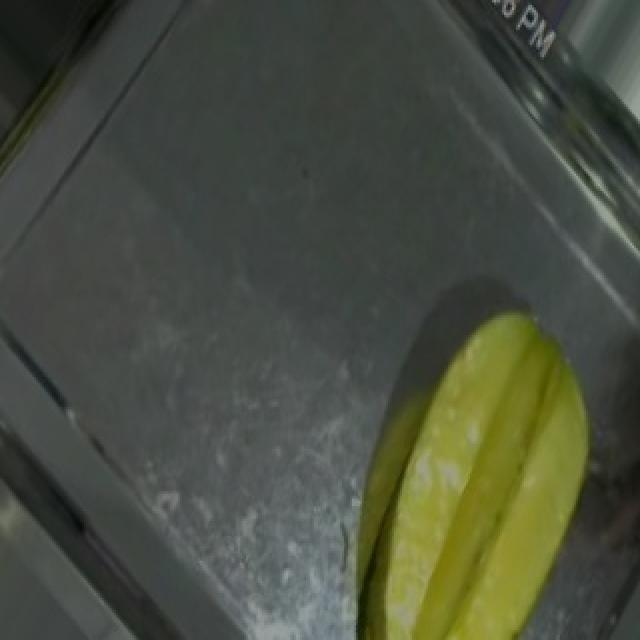fruit: (338, 268, 640, 640)
